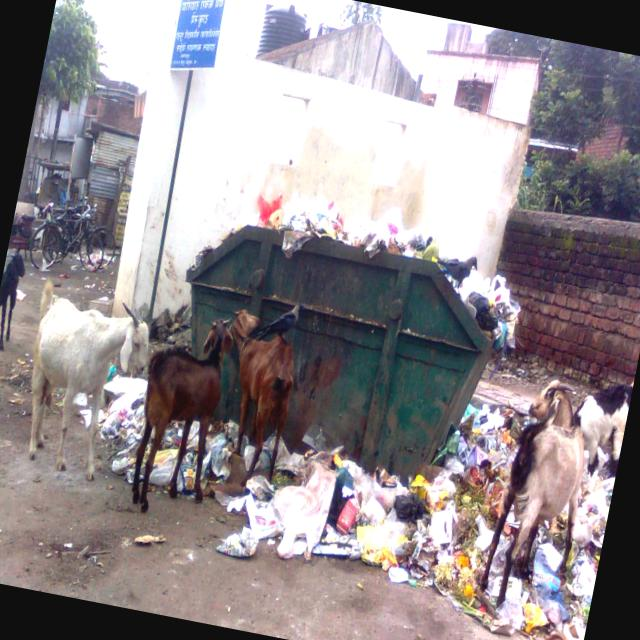garbage: (50, 160, 640, 631)
